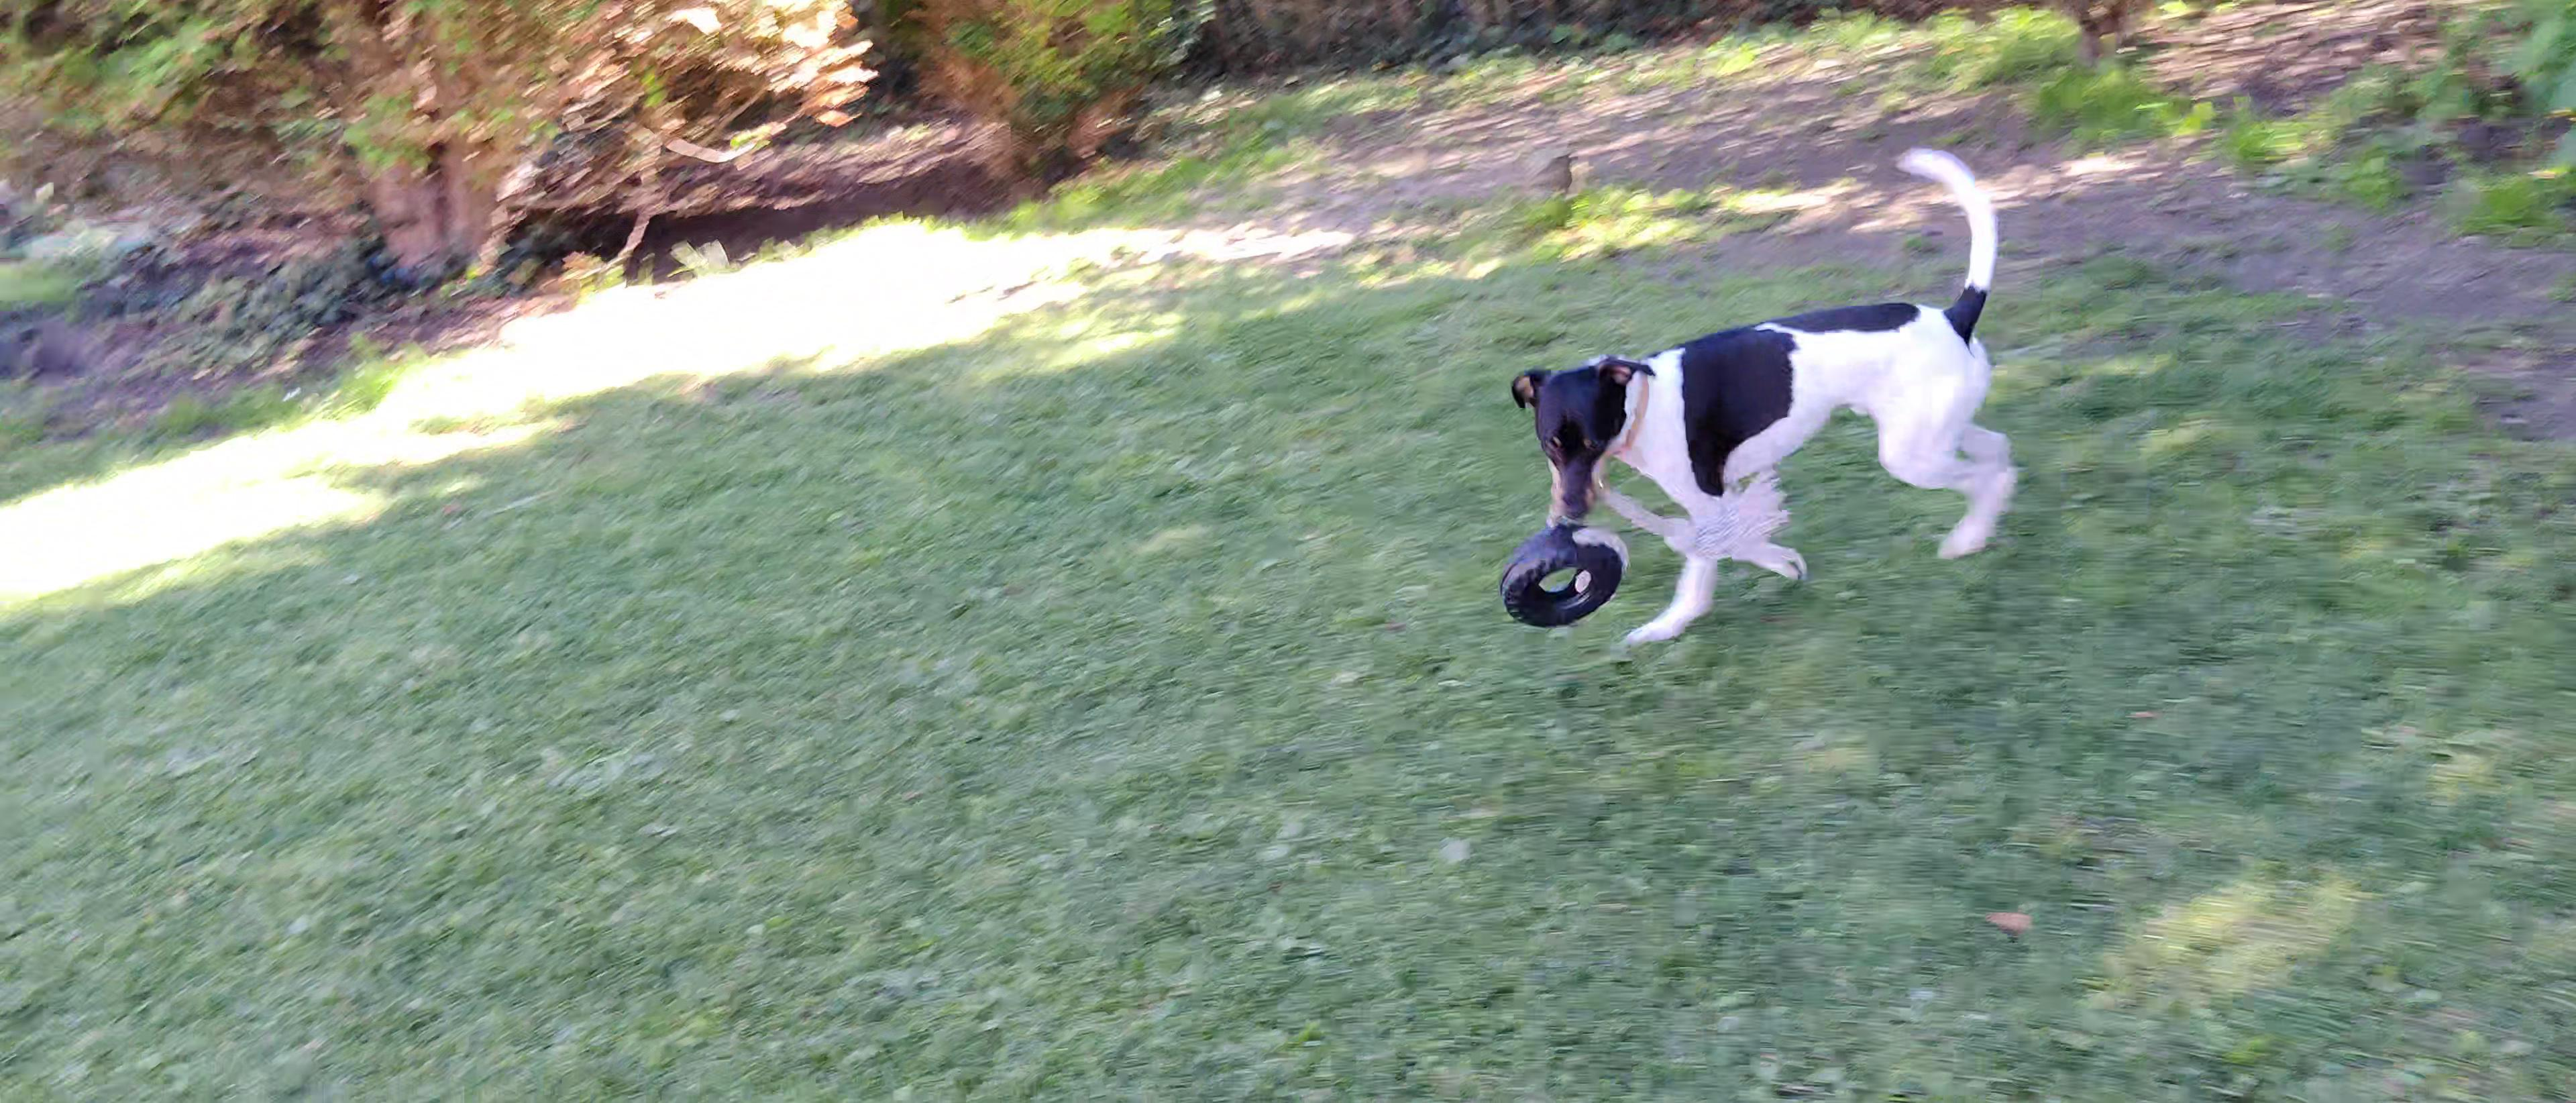Dog: (1508, 136, 2034, 643)
